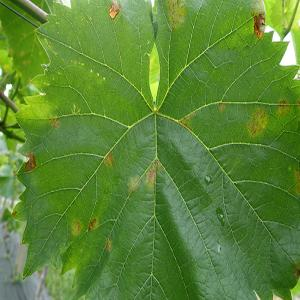Folha: (11, 0, 299, 298)
Fungo: (246, 107, 268, 138), (166, 0, 186, 31), (251, 0, 266, 38), (275, 97, 289, 117), (126, 174, 140, 193), (24, 150, 36, 172), (108, 2, 120, 20), (70, 219, 82, 237), (103, 150, 114, 167), (48, 115, 60, 129), (87, 217, 97, 230), (105, 237, 112, 252), (218, 101, 226, 111)
